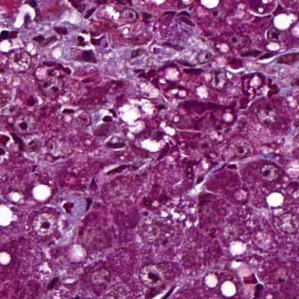ballooning: (116, 97, 178, 155)
